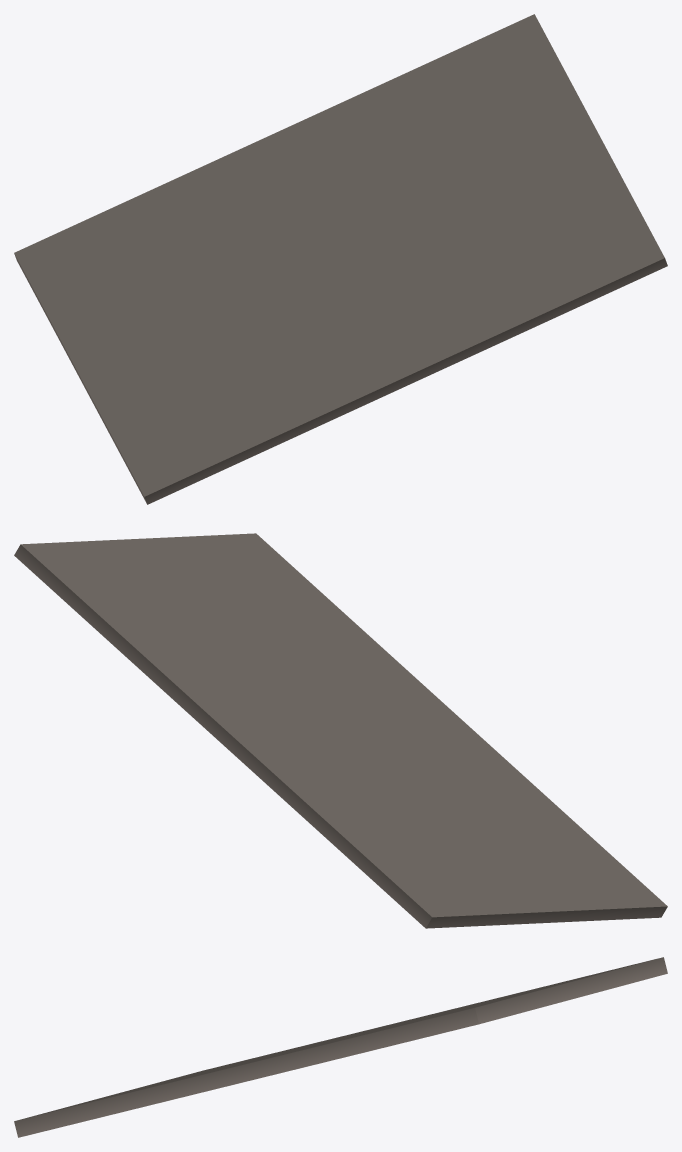
The model's file is KOUI02.glb.
3 views of the same model, one above another, from view 1: azimuth 30°, elevation 25°; view 2: azimuth 150°, elevation 25°; view 3: azimuth 270°, elevation 25° (orthographic). The views are drawn at different scales.
Visible parts, largest first — view 1: FRAME_ROOT; view 2: FRAME_ROOT; view 3: FRAME_ROOT.
Part boxes in pixels (bbox=[...]): FRAME_ROOT: bbox=[14, 14, 667, 504]; FRAME_ROOT: bbox=[14, 533, 667, 928]; FRAME_ROOT: bbox=[14, 957, 667, 1137].
Size of the model in its own units: 15 by 8.59 by 12.86.
1 material, 1 textured.
